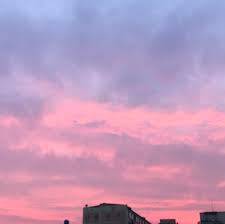sky: (1, 1, 223, 211)
